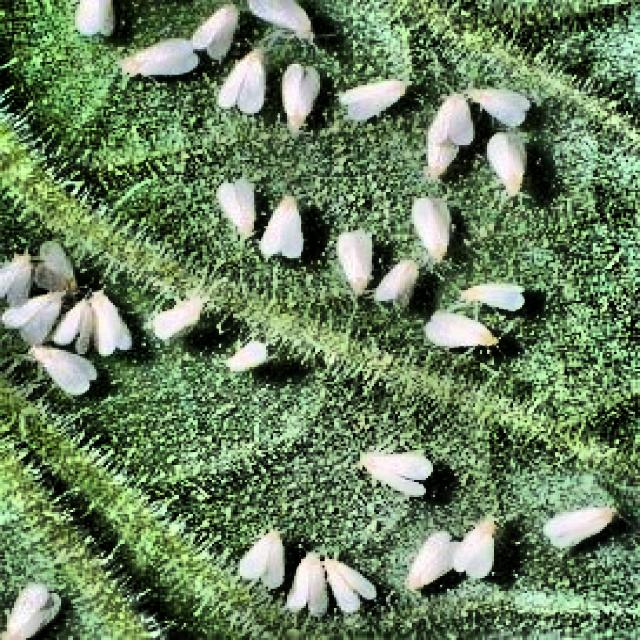whitefly: (426, 94, 473, 177), (544, 506, 619, 548), (31, 346, 96, 393), (360, 452, 431, 495), (2, 585, 59, 638), (0, 292, 61, 341), (216, 49, 261, 113), (325, 557, 374, 612), (122, 38, 198, 73), (280, 64, 320, 130), (191, 4, 238, 60), (238, 531, 285, 587), (409, 531, 454, 589), (485, 130, 525, 194), (412, 196, 452, 260), (89, 290, 129, 354), (424, 314, 499, 348), (339, 81, 405, 119), (261, 196, 301, 258), (452, 516, 492, 578), (287, 553, 327, 614), (247, 0, 311, 38), (336, 230, 372, 292), (216, 179, 254, 237), (468, 90, 529, 126), (151, 297, 202, 339), (325, 559, 374, 599), (35, 241, 73, 292), (374, 260, 416, 303), (0, 254, 35, 305), (461, 284, 522, 309), (56, 299, 89, 343), (75, 0, 113, 36), (226, 341, 266, 369)
